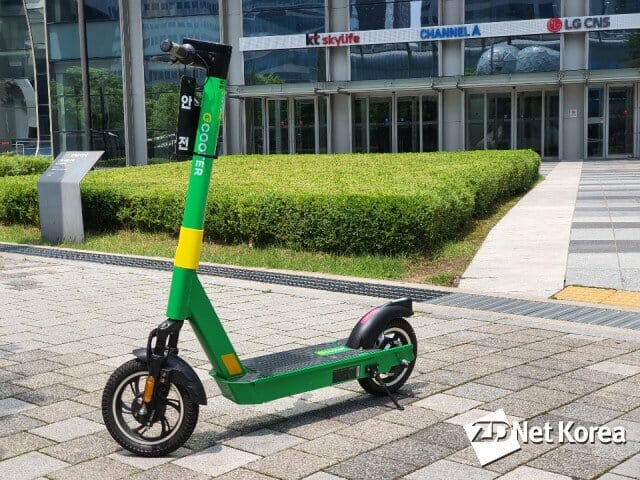scooter: (101, 36, 421, 459)
